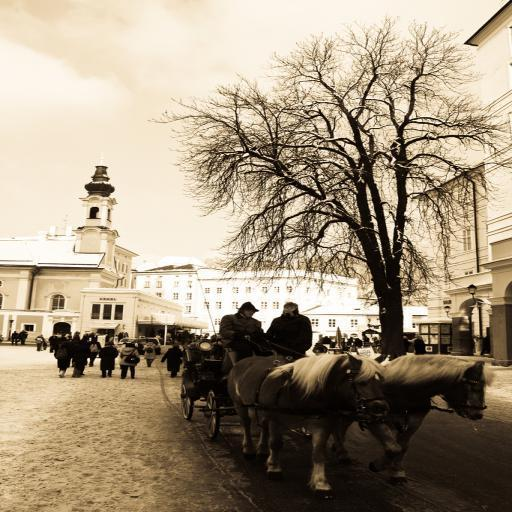horse: (224, 348, 392, 500), (355, 358, 493, 478)
